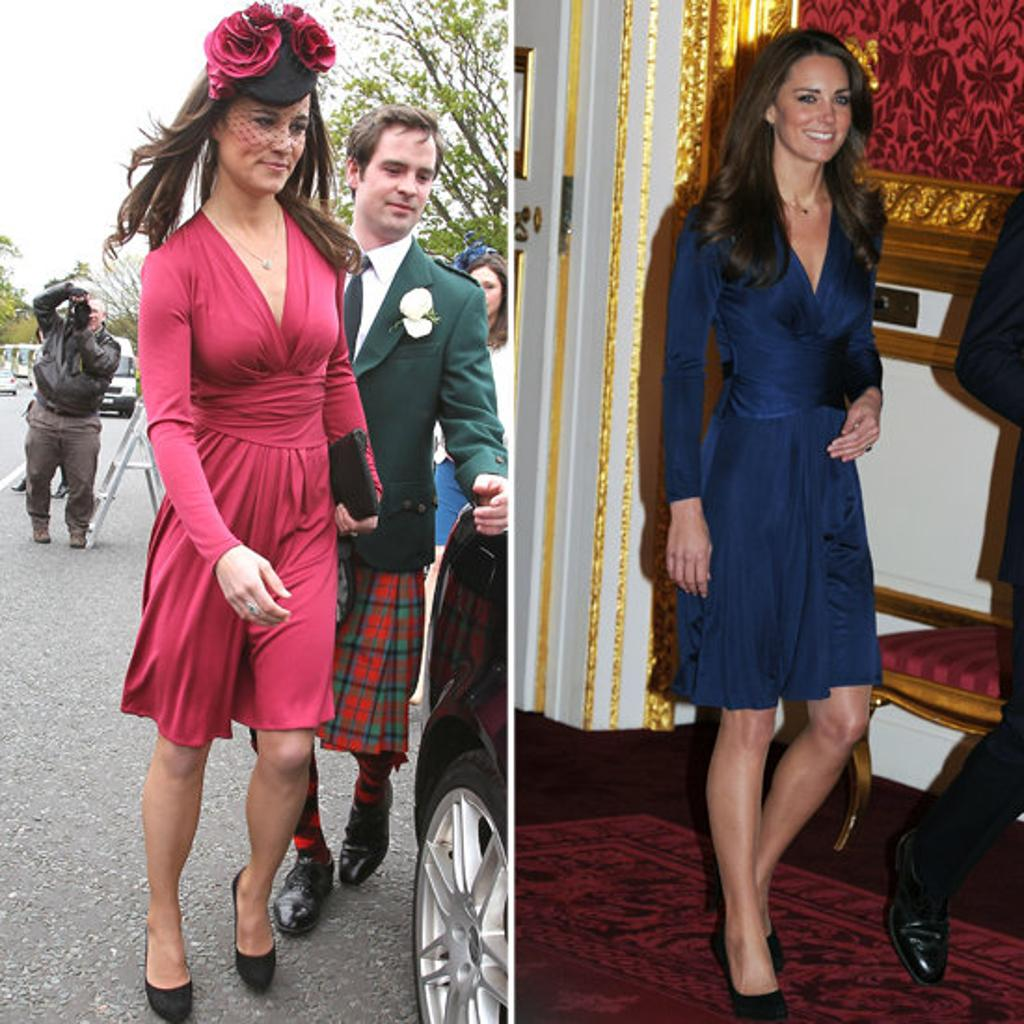face: (220, 88, 308, 190), (358, 133, 437, 230), (776, 63, 853, 160), (467, 269, 499, 318), (86, 303, 100, 326)
